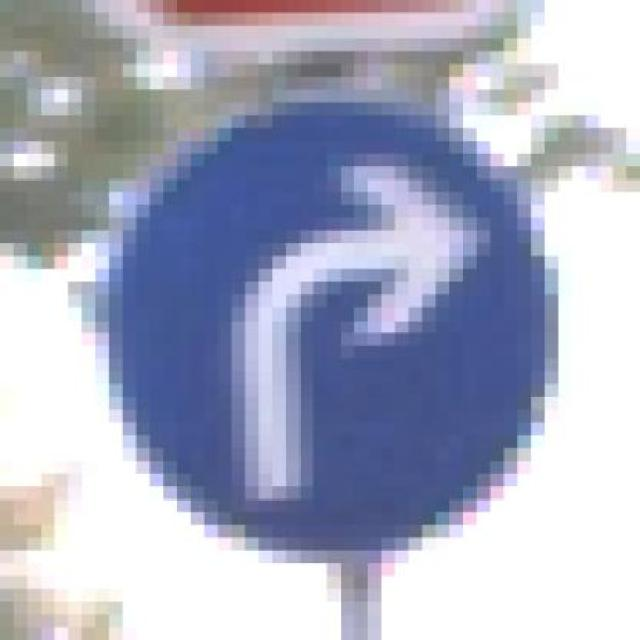Turn right ahead: (81, 65, 558, 563)
